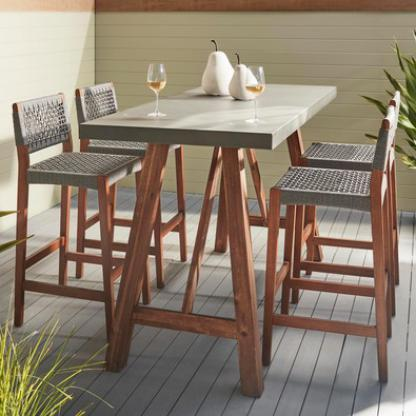table: (76, 67, 340, 400)
